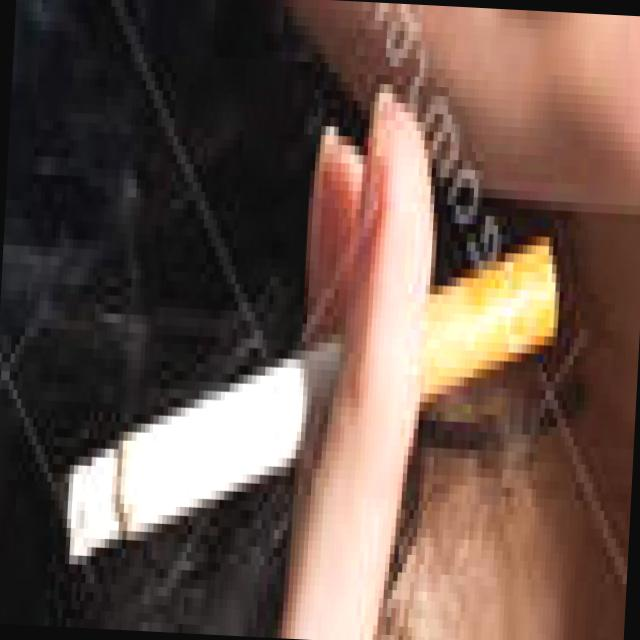cigarette: (52, 202, 564, 607)
